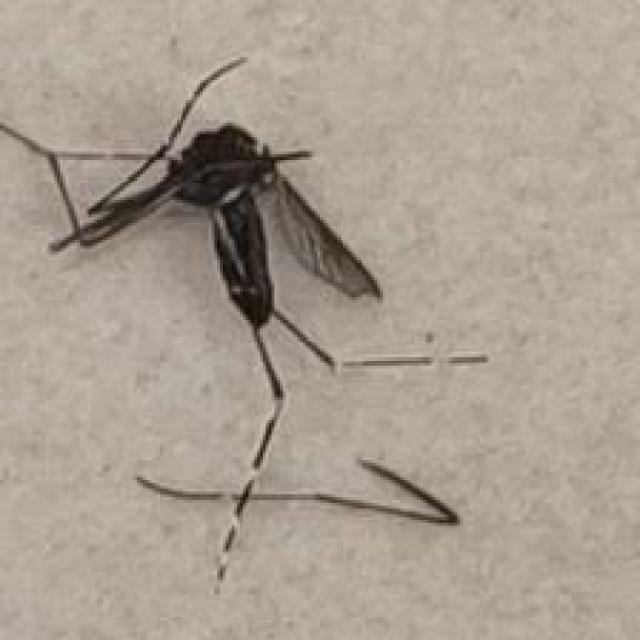Aedes albopictus: (0, 51, 489, 594)
